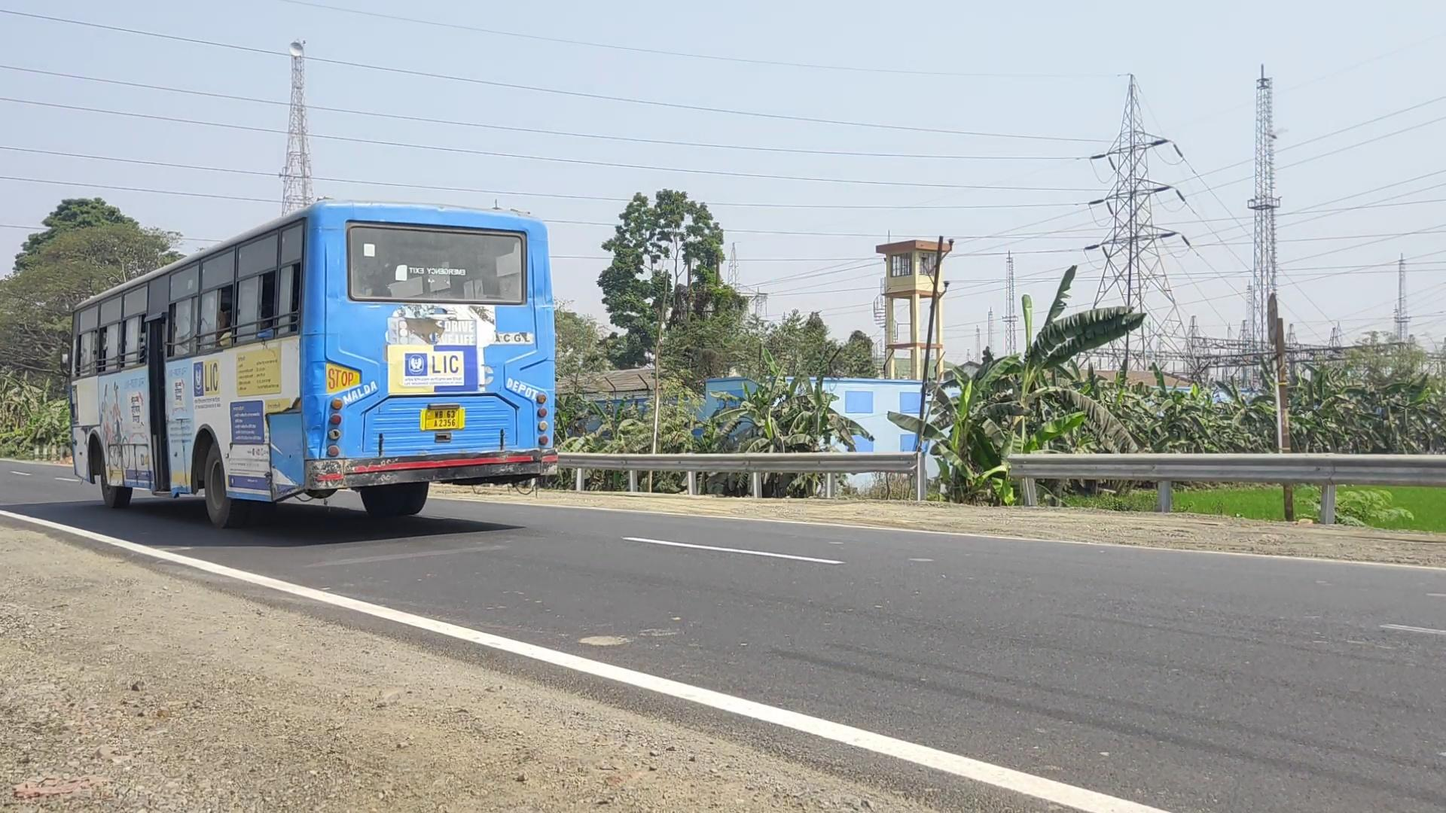Bus: (59, 196, 558, 530)
